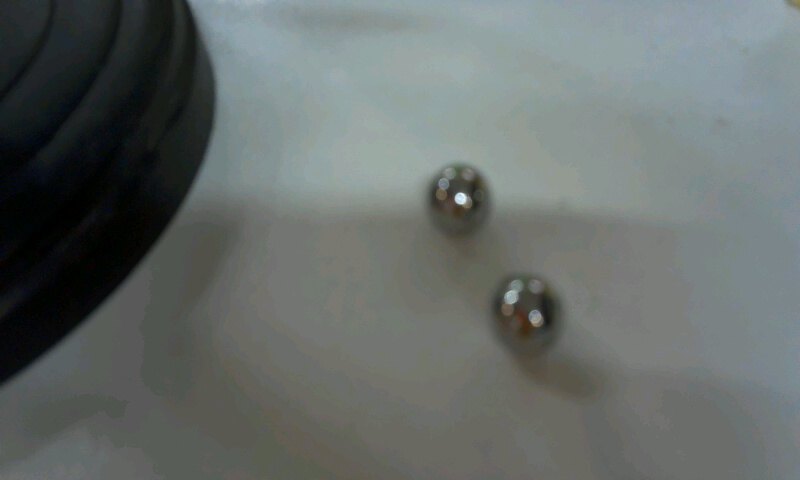steelball: (416, 153, 509, 253), (485, 269, 573, 368)
